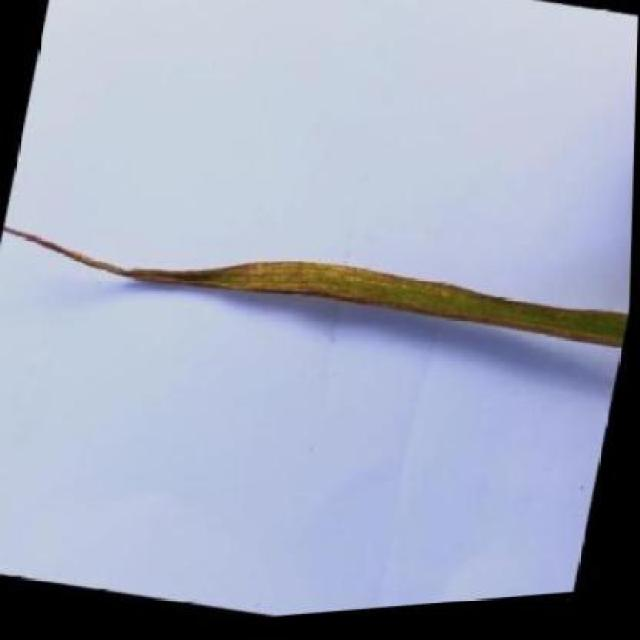Rice False Smut: (120, 266, 628, 358)
